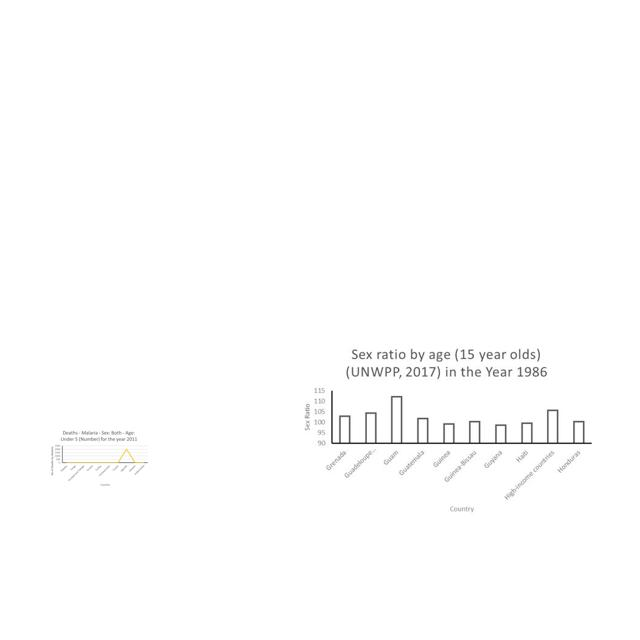Graph: (295, 342, 597, 520), (48, 428, 150, 489)
